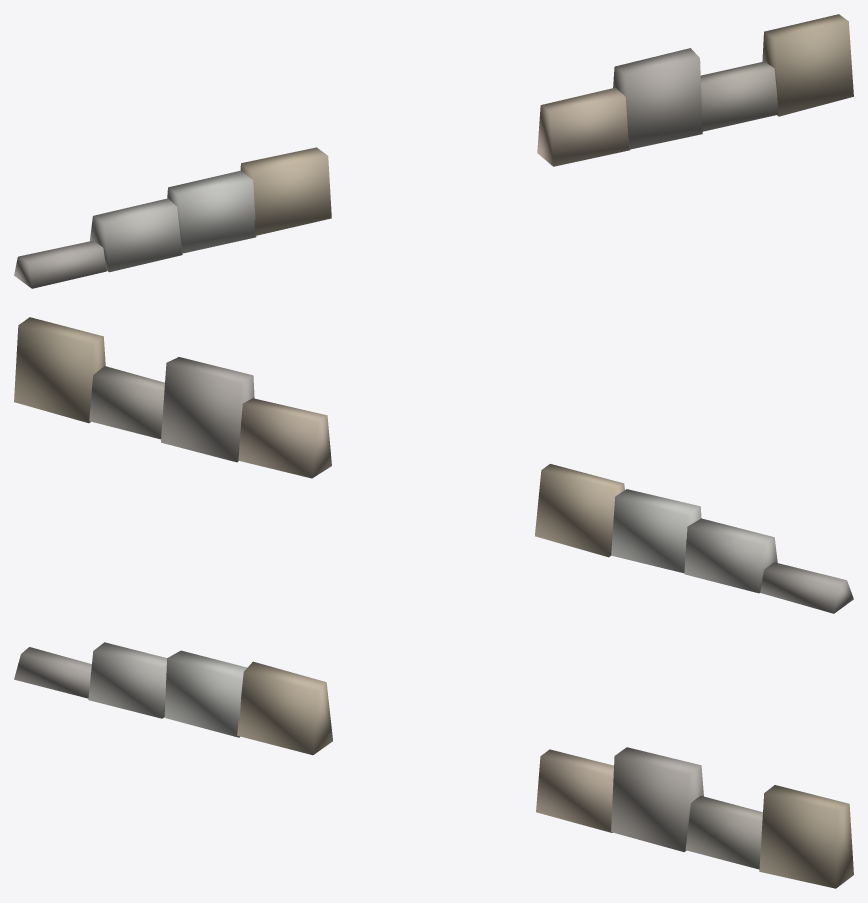
The model's file is farm_24_11_far.glb.
3 views of the same model, one above another, from view 1: azimuth 30°, elevation 25°; view 2: azimuth 150°, elevation 25°; view 3: azimuth 330°, elevation 25° (orthographic). The views are drawn at different scales.
Visible parts, largest first — view 1: geometry_0; view 2: geometry_0; view 3: geometry_0.
Part boxes in pixels (x1,y1,x2,y2): geometry_0: (14,14,853,288); geometry_0: (14,317,853,613); geometry_0: (14,642,853,888).
Size of the model in its own units: 16.33 by 1.44 by 0.9788.
